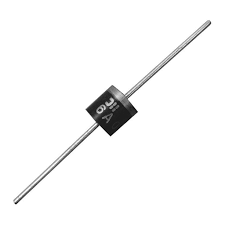diode: (59, 63, 150, 154)
